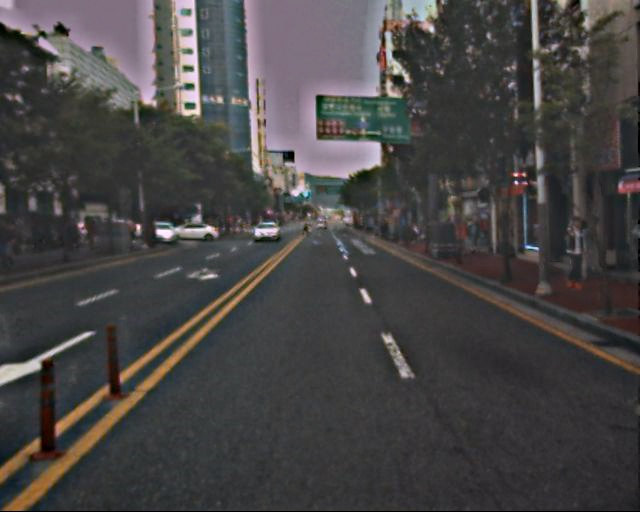person: (558, 219, 586, 287), (464, 216, 484, 259)
